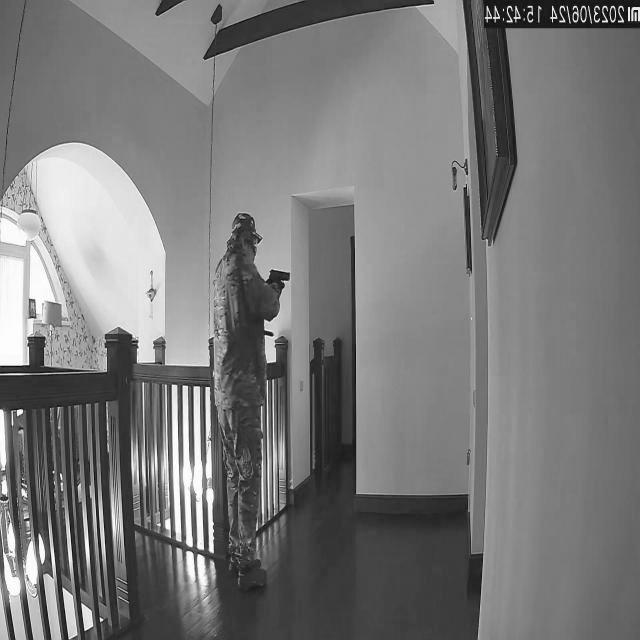gun: (268, 264, 291, 296)
person with a gun: (214, 210, 296, 592)
